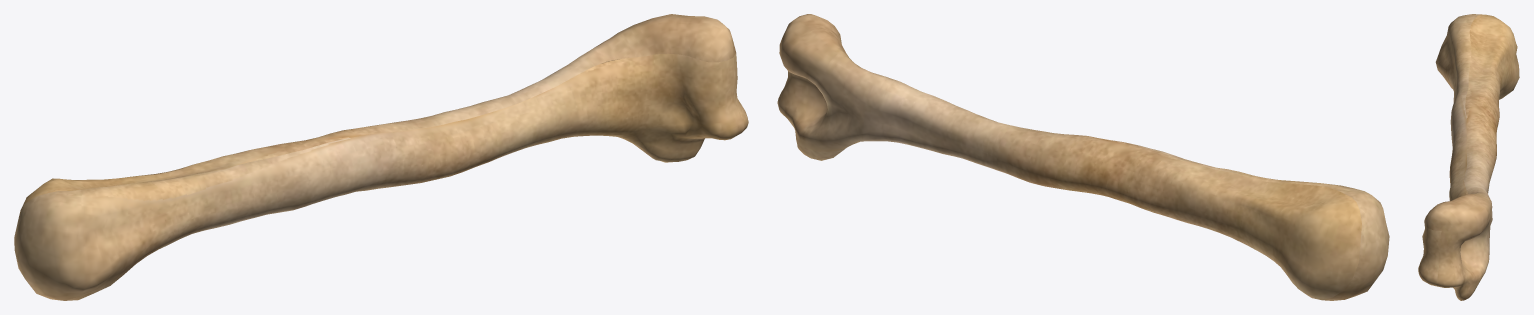
File: large_bone_2.glb
3 views of the same model, side by side, from view 1: azimuth 30°, elevation 25°; view 2: azimuth 150°, elevation 25°; view 3: azimuth 270°, elevation 25° (orthographic). The views are drawn at different scales.
Parts seen in each view (by area): view 1: Hueso grande 1; view 2: Hueso grande 1; view 3: Hueso grande 1.
Part boxes in pixels (box(x1,y1,x2,y2)): Hueso grande 1: box(14, 14, 748, 300); Hueso grande 1: box(777, 14, 1389, 300); Hueso grande 1: box(1418, 14, 1519, 300).
Bounding box in the file's own units: 1.31 × 0.2584 × 0.2382.
Materials: 1 (1 with a texture image).
